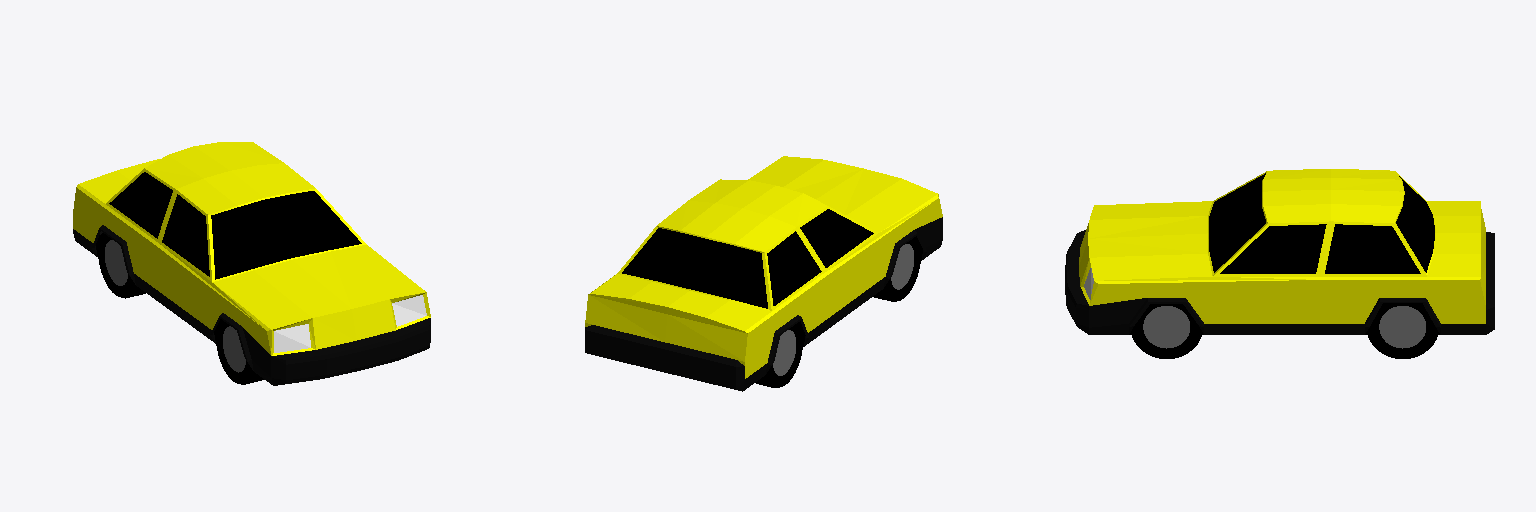
The model's file is Car4.obj.
3 renders of one model, left to right at view 1: azimuth 30°, elevation 25°; view 2: azimuth 150°, elevation 25°; view 3: azimuth 270°, elevation 25°, orthographic.
Visible parts, largest first — view 1: Car_Cube; view 2: Car_Cube; view 3: Car_Cube.
Part boxes in pixels (x1,y1,x2,y2): Car_Cube: (73, 142, 430, 385); Car_Cube: (585, 156, 942, 391); Car_Cube: (1065, 169, 1494, 358).
Size of the model in its own units: 2.1 by 1.59 by 4.67.